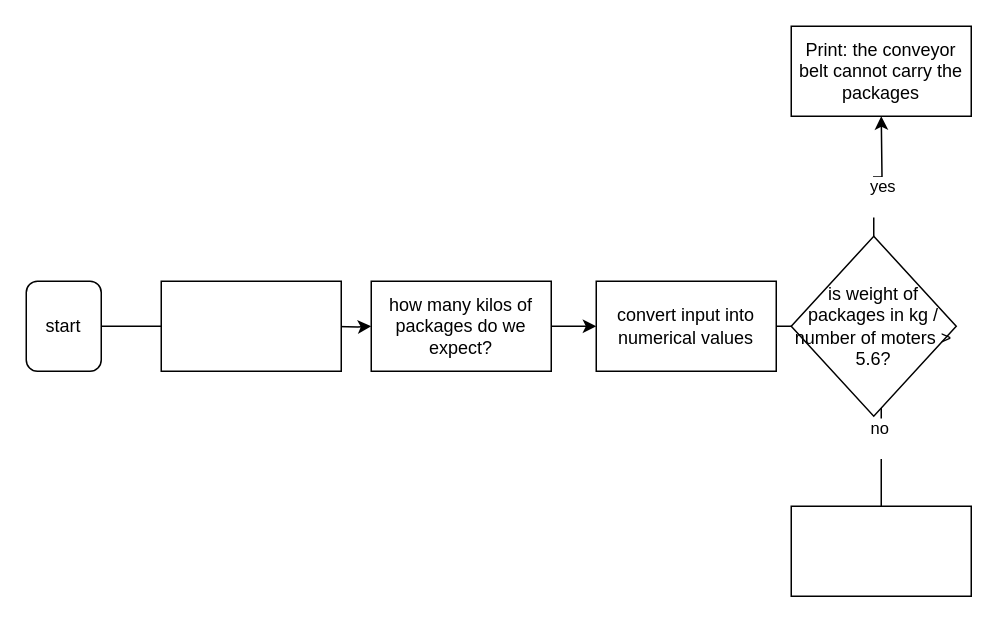
Image size: 998x623. Some labels were removed from this diagram. The shapes that lost their labels are listed below. From the top down, each one's centre as x and y in pixels, then its label:
(250,325): how many moters are carrying the packages?
(880,550): Print: the conveyor belt can carry the packages
